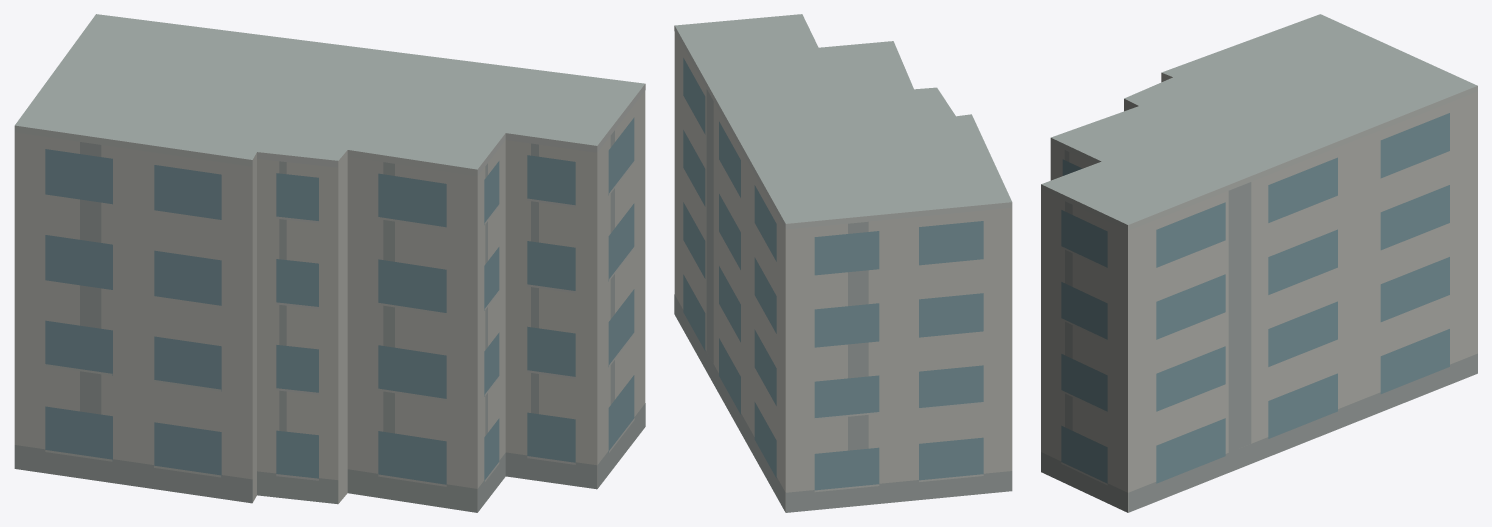
File: residential-018481d9-44a4-4e74-a810-2d2083e70208.glb
3 renders of one model, left to right at view 1: azimuth 30°, elevation 25°; view 2: azimuth 150°, elevation 25°; view 3: azimuth 270°, elevation 25°, orthographic. The views are drawn at different scales.
Visible parts, largest first — view 1: residential-018481d9-44a4-4e74-a810-2d2083e70208.tmp; view 2: residential-018481d9-44a4-4e74-a810-2d2083e70208.tmp; view 3: residential-018481d9-44a4-4e74-a810-2d2083e70208.tmp.
Boxes of the visible parts, left/top/right/bottom form: residential-018481d9-44a4-4e74-a810-2d2083e70208.tmp: left=14, top=14, right=645, bottom=512; residential-018481d9-44a4-4e74-a810-2d2083e70208.tmp: left=674, top=14, right=1012, bottom=512; residential-018481d9-44a4-4e74-a810-2d2083e70208.tmp: left=1041, top=14, right=1477, bottom=512.
Bounding box in the file's own units: 19.2 × 12.2 × 16.78.
